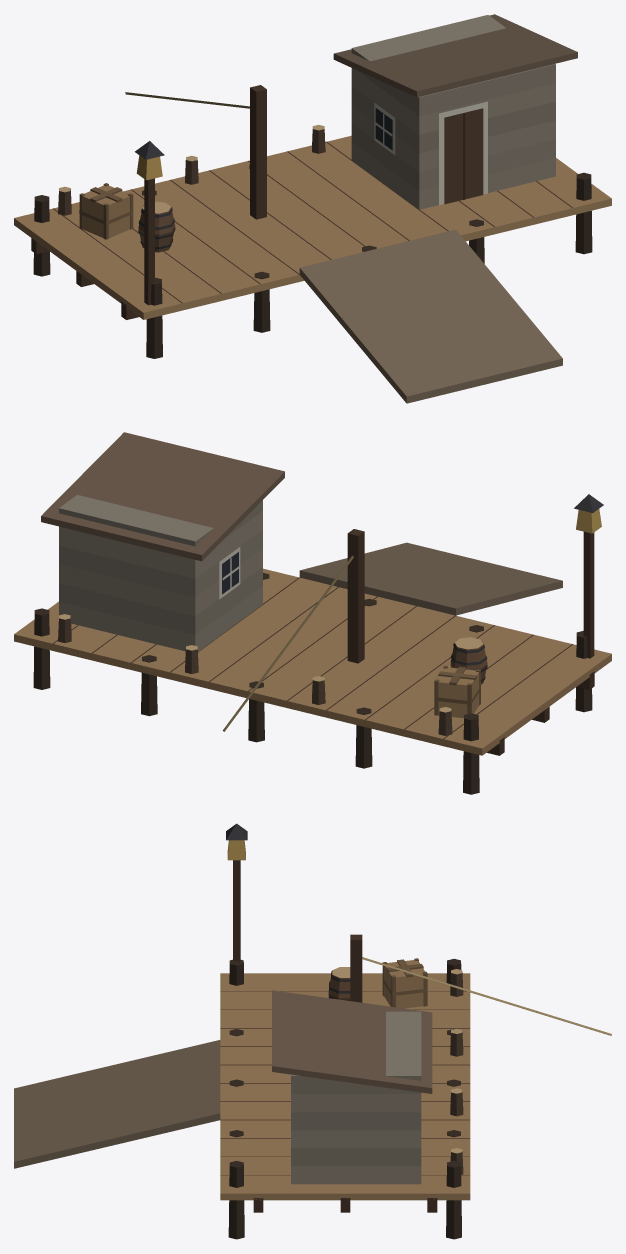
The model's file is landing.glb.
The picture shows the model from 3 angles, top to bottom: view 1: azimuth 30°, elevation 25°; view 2: azimuth 150°, elevation 25°; view 3: azimuth 270°, elevation 25°; orthographic projection. The views are drawn at different scales.
Visible parts, largest first — view 1: landing; view 2: landing; view 3: landing.
Boxes of the visible parts, bbox=[...] form: landing: bbox=[14, 14, 611, 403]; landing: bbox=[14, 432, 611, 794]; landing: bbox=[14, 823, 611, 1239].
Size of the model in its own units: 9.6 by 4.22 by 11.01.
